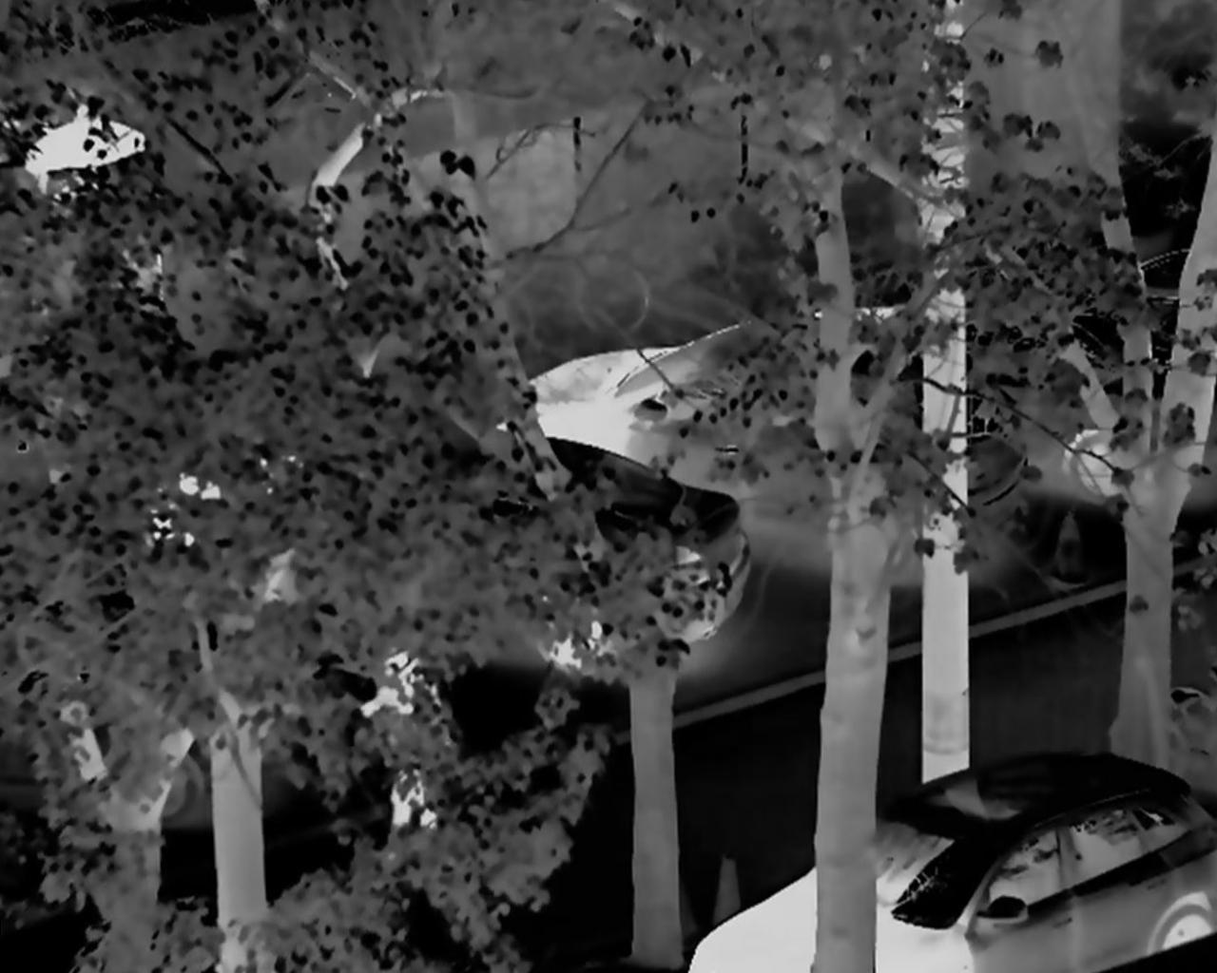person: (377, 651, 444, 847)
